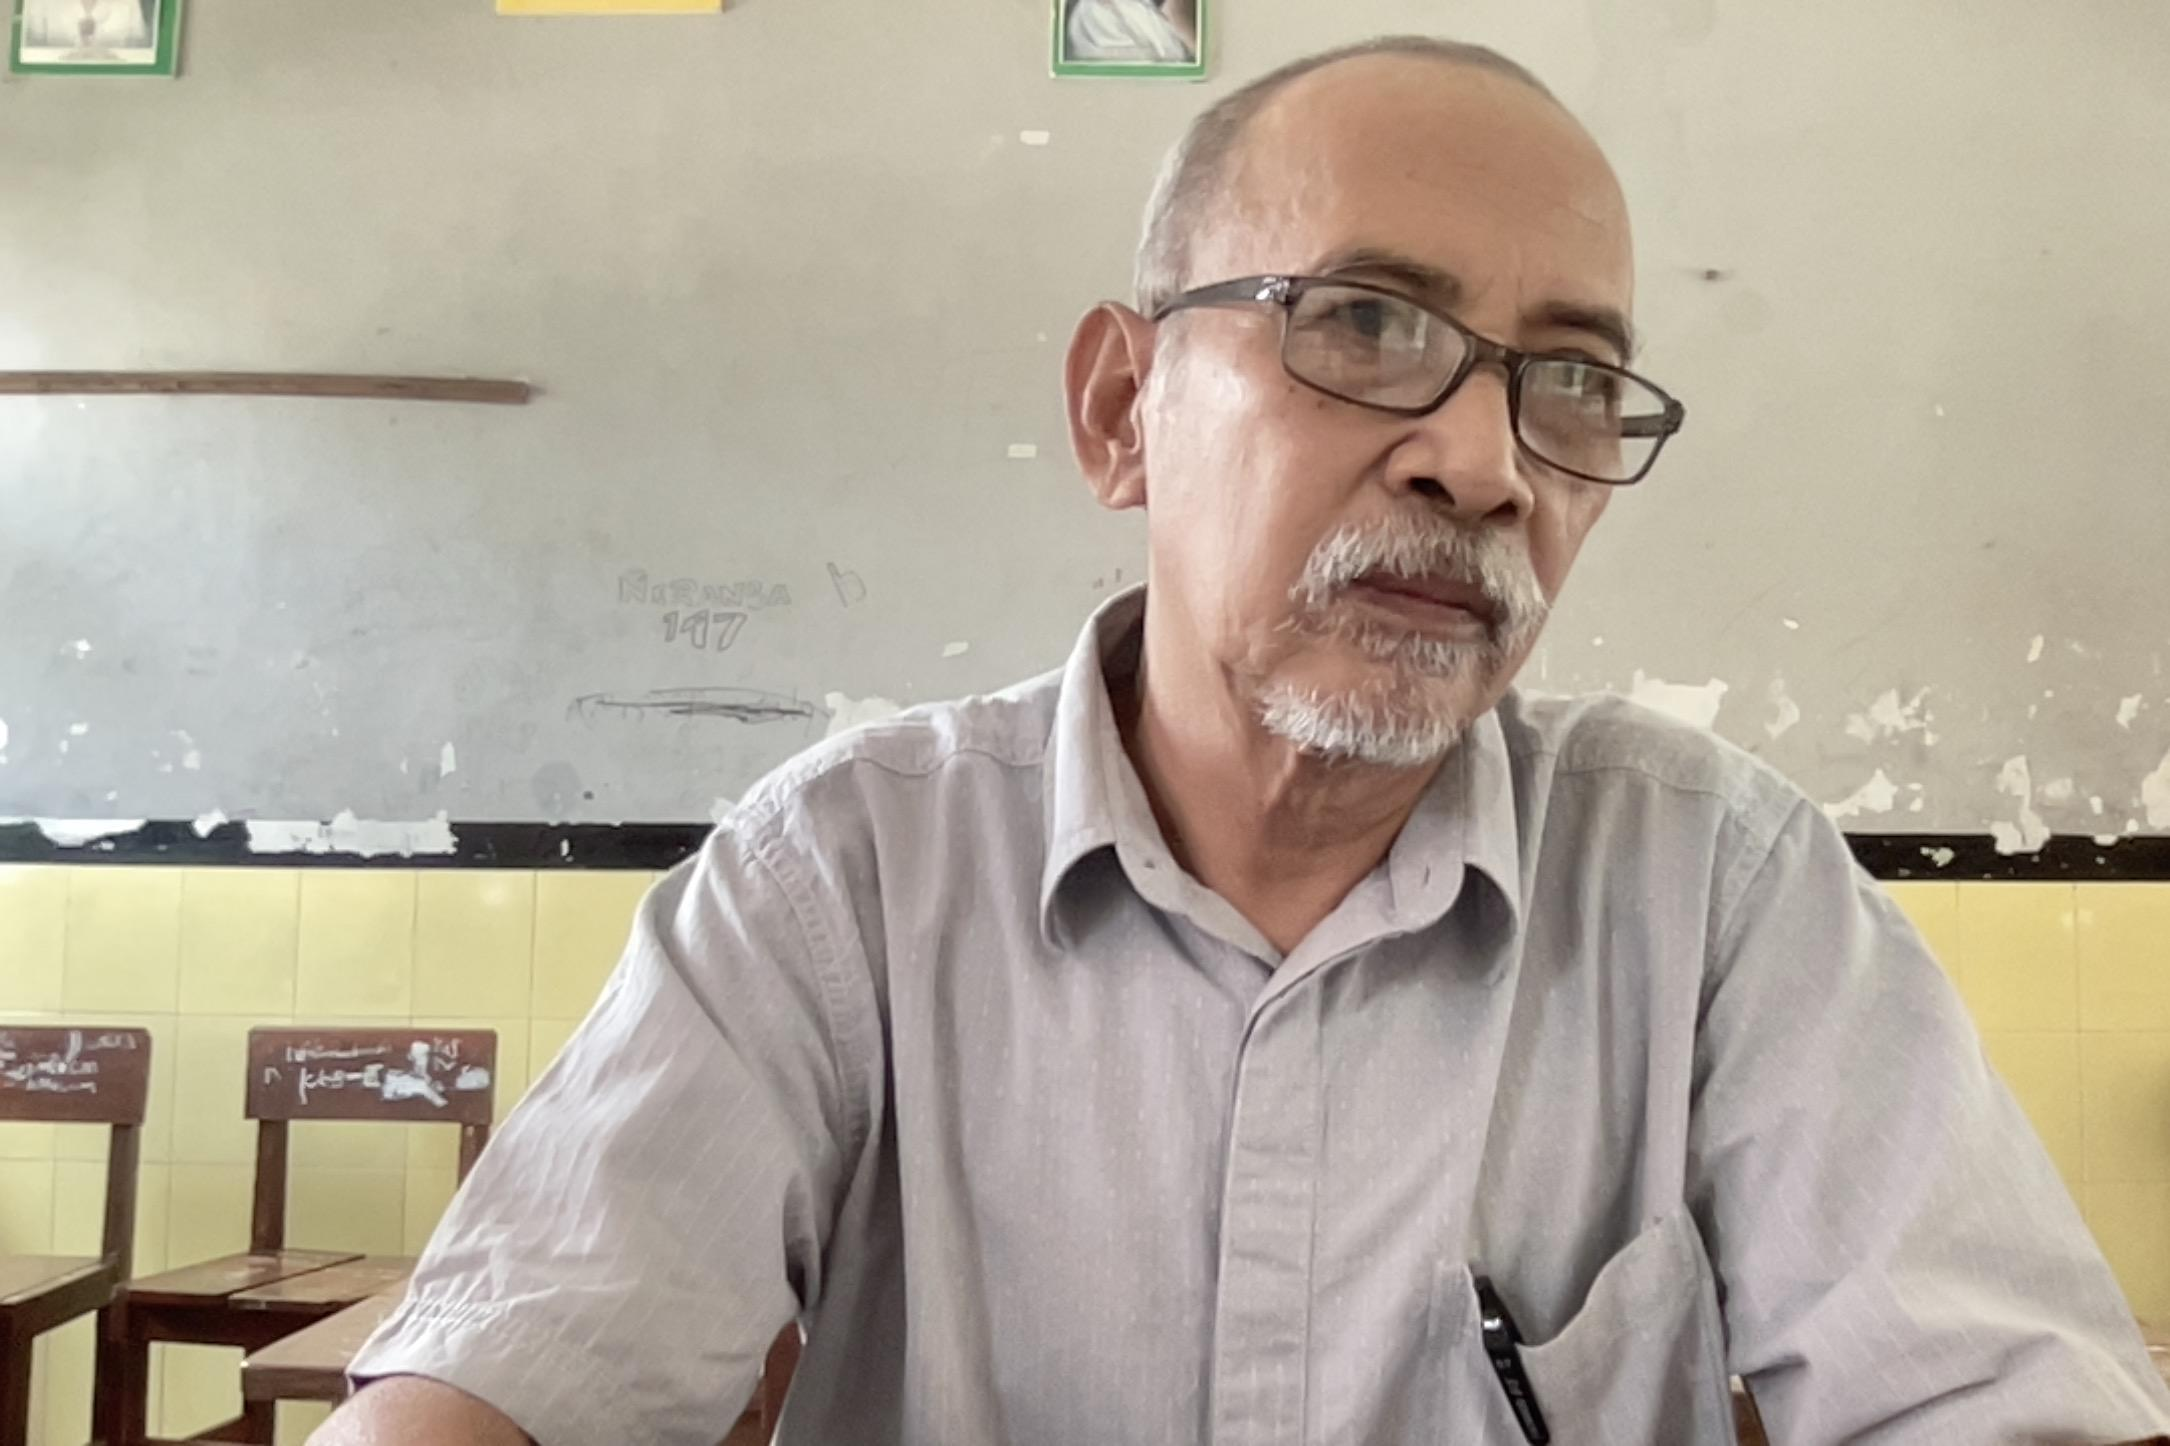cheating: (1044, 3, 1723, 954)
